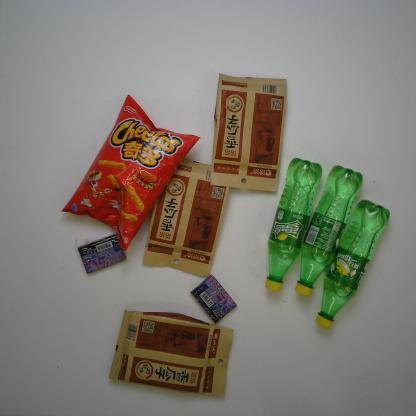Dried Food: (106, 308, 236, 402), (142, 157, 230, 281), (208, 72, 288, 193)
Drink: (314, 197, 391, 332), (293, 165, 364, 299), (262, 157, 323, 294)
Gum: (190, 274, 238, 326), (76, 232, 129, 277)
Puffed Food: (58, 91, 202, 256)
